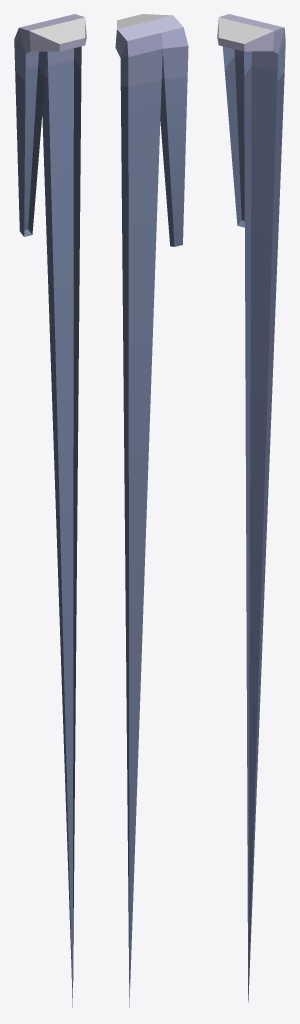
The model's file is Prop_Spiderweb_04.fbx.
3 views of the same model, side by side, from view 1: azimuth 30°, elevation 25°; view 2: azimuth 210°, elevation 25°; view 3: azimuth 330°, elevation 25° (orthographic).
Parts seen in each view (by area): view 1: spiderweb04; view 2: spiderweb04; view 3: spiderweb04.
Part boxes in pixels (x1,y1,x2,y2): spiderweb04: (14, 14, 86, 1007); spiderweb04: (115, 14, 188, 1007); spiderweb04: (217, 14, 285, 1002).
Bounding box in the file's own units: 41.13 × 690 × 39.97.
